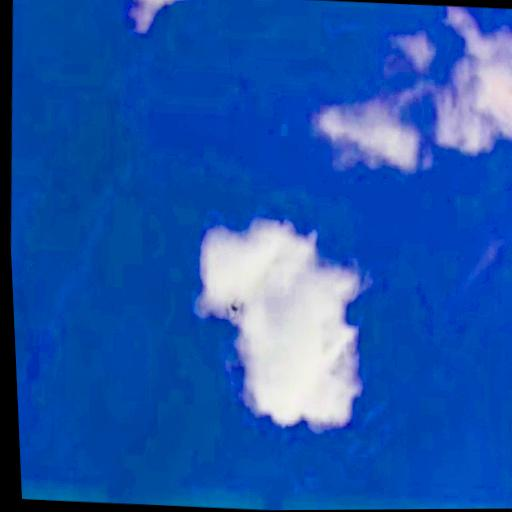drones: (222, 291, 250, 331)
